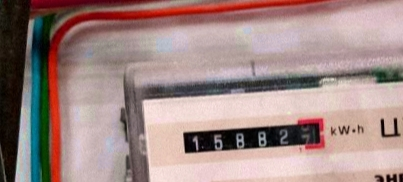1: (190, 133, 201, 151)
2: (278, 127, 290, 145)
5: (212, 133, 224, 150)
7: (300, 132, 312, 144)
8: (233, 131, 246, 148), (256, 129, 268, 147)
screen: (175, 114, 331, 162)
